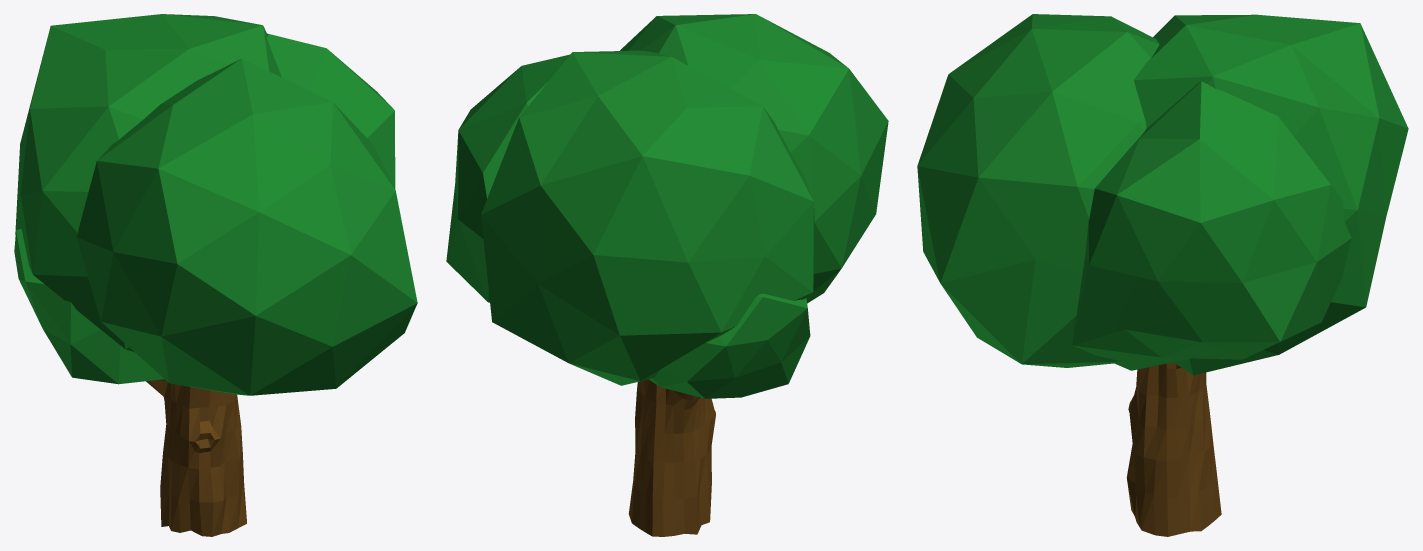
Rendered from tree.glb.
3 renders of one model, left to right at view 1: azimuth 30°, elevation 25°; view 2: azimuth 150°, elevation 25°; view 3: azimuth 270°, elevation 25°, orthographic. The views are drawn at different scales.
Visible parts, largest first — view 1: Icosphere, Cylinder; view 2: Icosphere, Cylinder; view 3: Icosphere, Cylinder.
Part boxes in pixels (left/top/right/bottom): Icosphere: left=14, top=14, right=417, bottom=395; Cylinder: left=146, top=379, right=246, bottom=536; Icosphere: left=446, top=14, right=888, bottom=398; Cylinder: left=628, top=379, right=715, bottom=536; Icosphere: left=917, top=14, right=1408, bottom=375; Cylinder: left=1126, top=362, right=1221, bottom=536.
Bounding box in the file's own units: 16.5 × 21.82 × 19.57.
